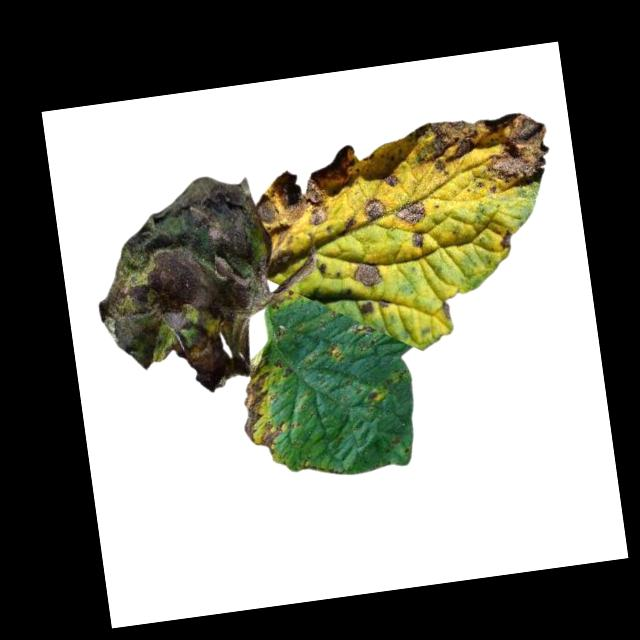Early_blight: (83, 167, 294, 404), (406, 106, 559, 204), (249, 143, 363, 241), (235, 356, 287, 458), (392, 200, 430, 229), (352, 258, 384, 290), (362, 198, 388, 223), (409, 229, 426, 250), (498, 228, 515, 249), (355, 301, 377, 317), (383, 172, 400, 189), (365, 391, 382, 405)
